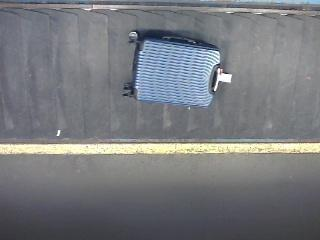Suitcase: (122, 21, 224, 116)
